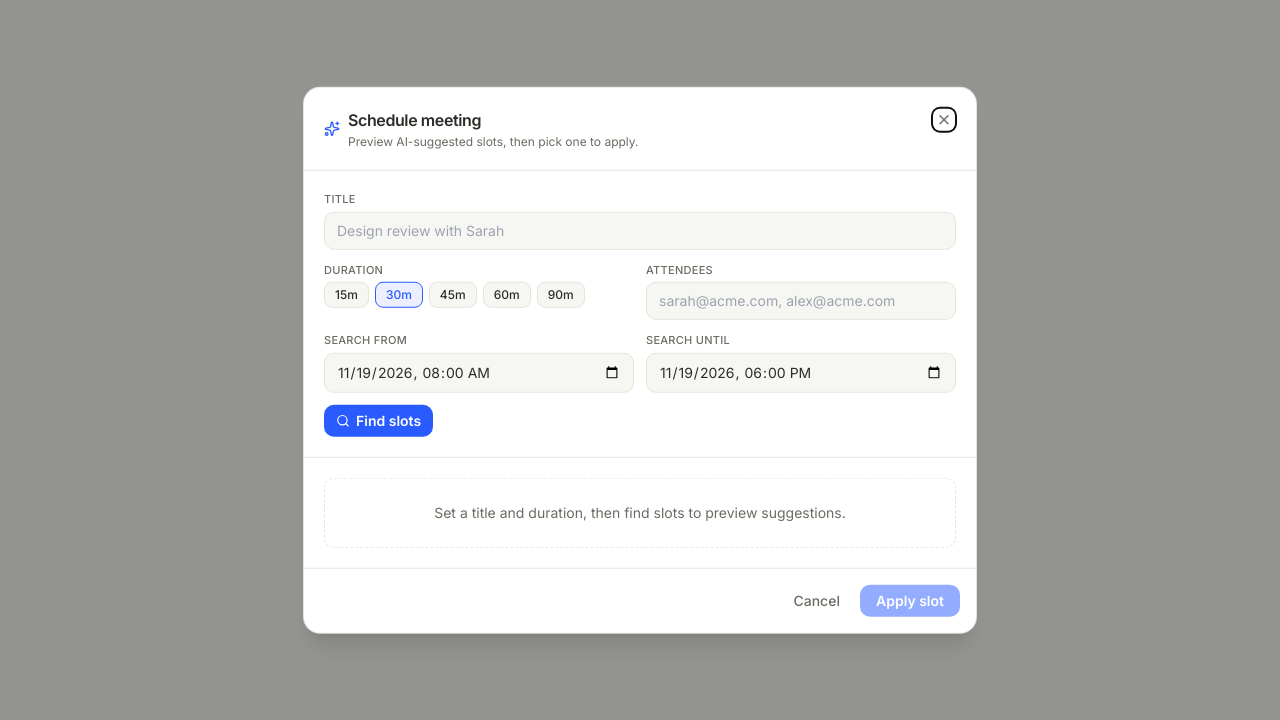
Scenario: PAC-92: the suggest failure in the Schedule meeting modal › a new search clears the previous failure
In the field labelled "Title": (640, 230) [324, 211, 956, 249], type "Sync"
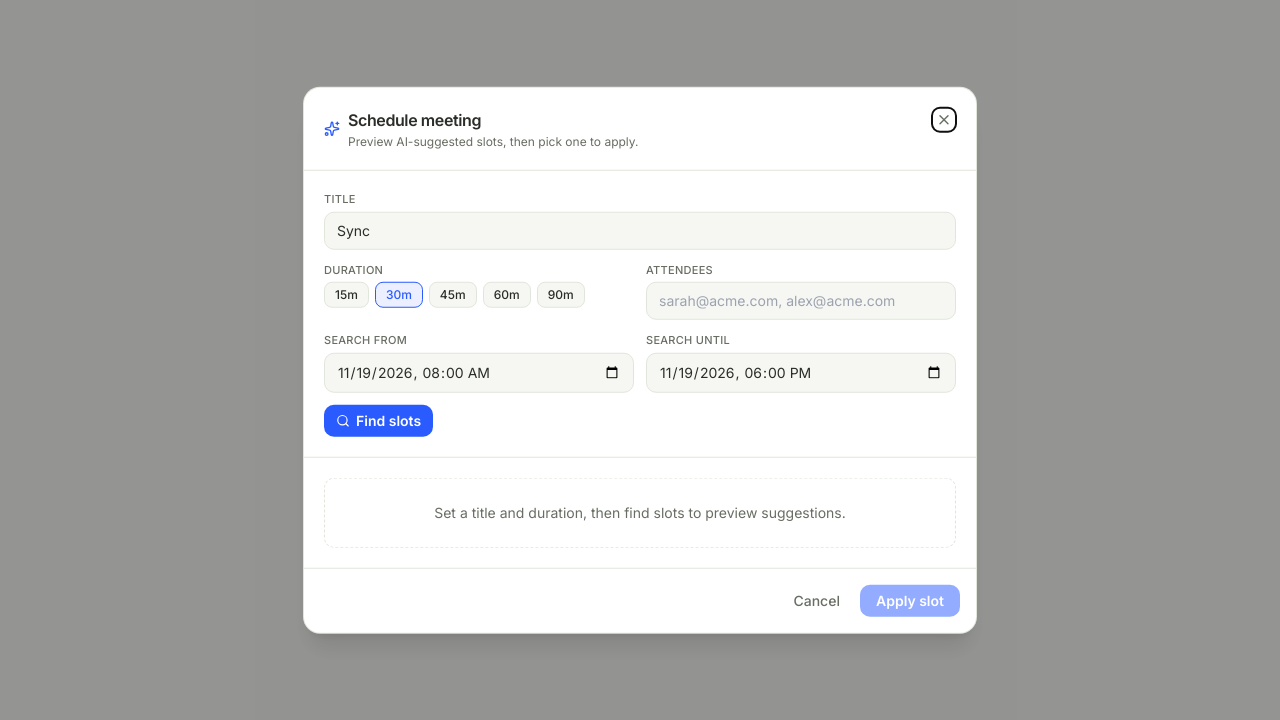
Click the button "Find slots": (379, 420) [324, 404, 433, 436]
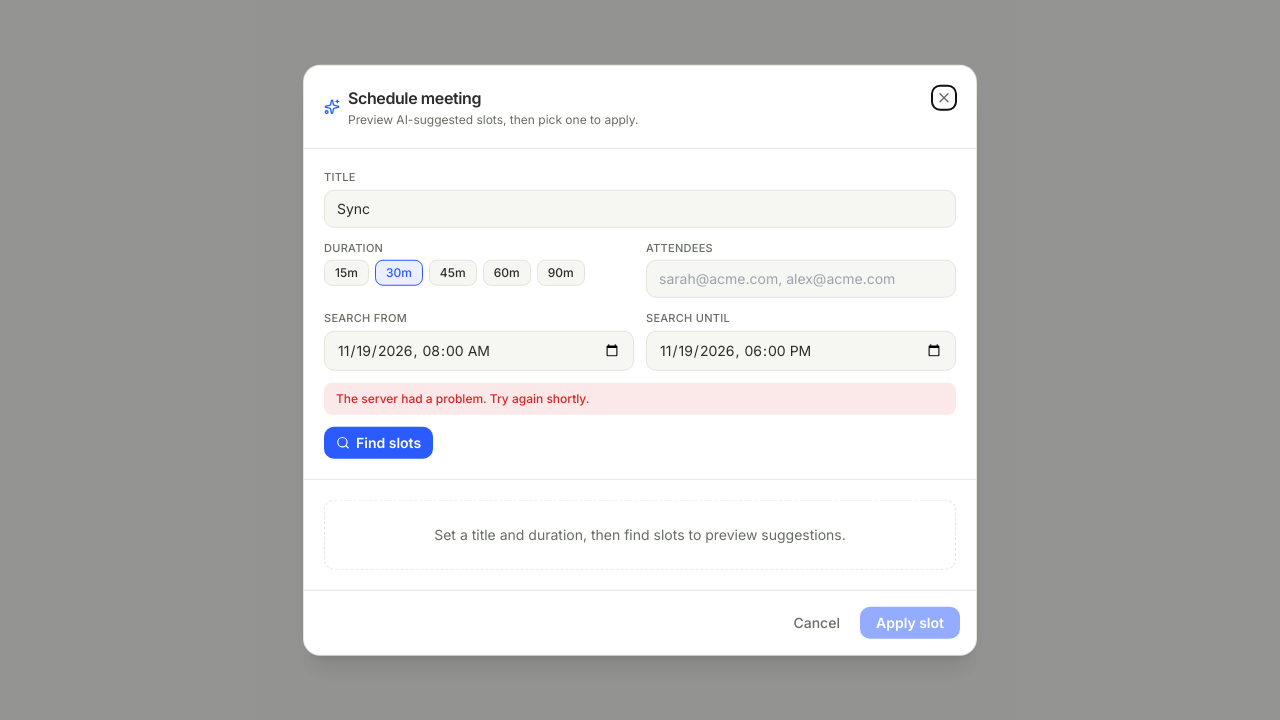
Click the button "Find slots": (379, 442) [324, 426, 433, 458]
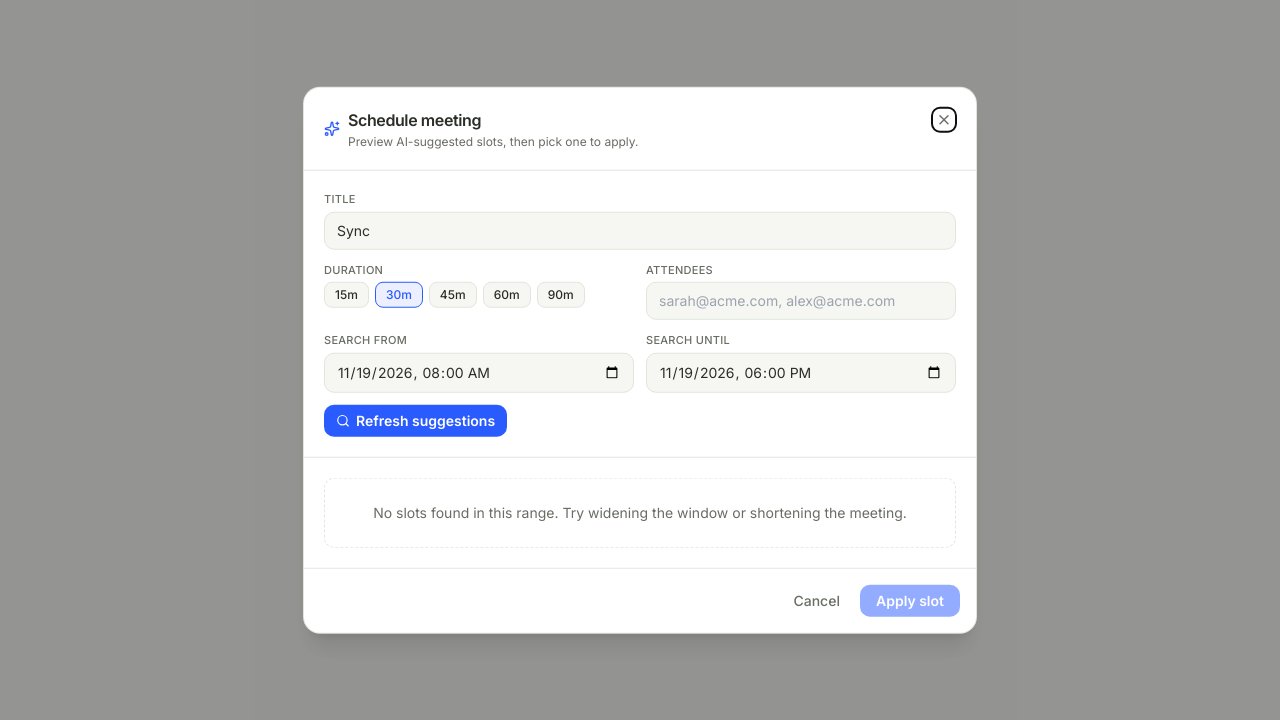
Expected: the text with test id "api-error" is gone
